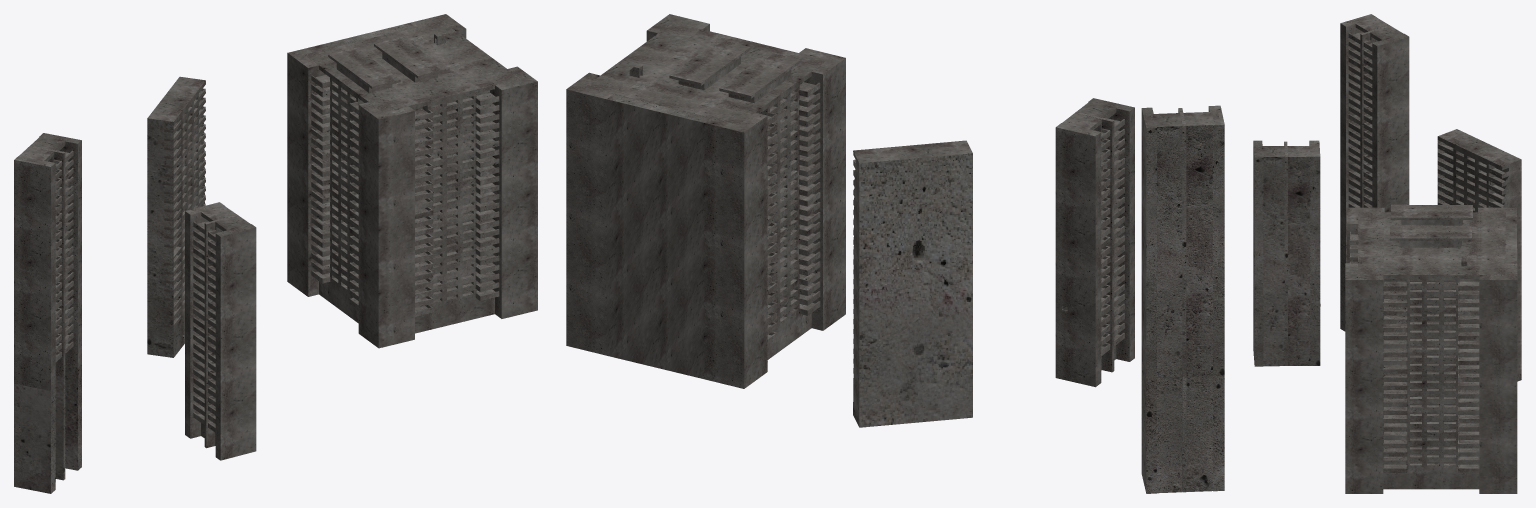
The model's file is SM_Scene_A_Blockout05.fbx.
3 views of the same model, side by side, from view 1: azimuth 30°, elevation 25°; view 2: azimuth 150°, elevation 25°; view 3: azimuth 270°, elevation 25° (orthographic). The views are drawn at different scales.
Visible parts, largest first — view 1: SM_Scene_A_Blockout05, SM_Scene_A_Blockout05.002, SM_Scene_A_Blockout05.001, SM_Scene_A_Blockout05.003; view 2: SM_Scene_A_Blockout05, SM_Scene_A_Blockout05.003, SM_Scene_A_Blockout05.002, SM_Scene_A_Blockout05.001; view 3: SM_Scene_A_Blockout05, SM_Scene_A_Blockout05.001, SM_Scene_A_Blockout05.002, SM_Scene_A_Blockout05.003.
Boxes of the visible parts, box(x1,y1,x2,y2) form: SM_Scene_A_Blockout05: box(287, 14, 537, 348); SM_Scene_A_Blockout05.002: box(14, 133, 81, 493); SM_Scene_A_Blockout05.001: box(185, 202, 256, 460); SM_Scene_A_Blockout05.003: box(147, 76, 205, 357); SM_Scene_A_Blockout05: box(566, 14, 845, 388); SM_Scene_A_Blockout05.003: box(853, 140, 972, 427); SM_Scene_A_Blockout05.002: box(1141, 105, 1224, 493); SM_Scene_A_Blockout05.001: box(1055, 98, 1134, 387); SM_Scene_A_Blockout05: box(1345, 204, 1517, 493); SM_Scene_A_Blockout05.001: box(1253, 140, 1320, 366); SM_Scene_A_Blockout05.002: box(1340, 14, 1409, 331); SM_Scene_A_Blockout05.003: box(1437, 129, 1521, 381).
Size of the model in its own units: 30596 by 18742 by 14908.
